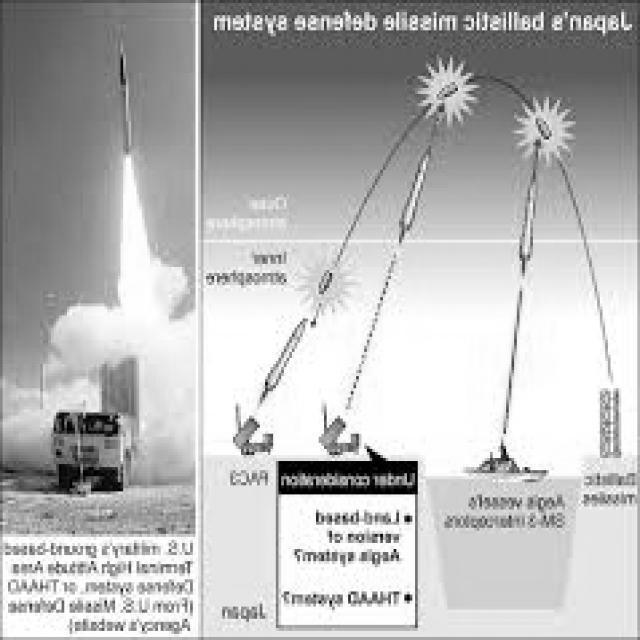missile: (114, 41, 140, 161)
